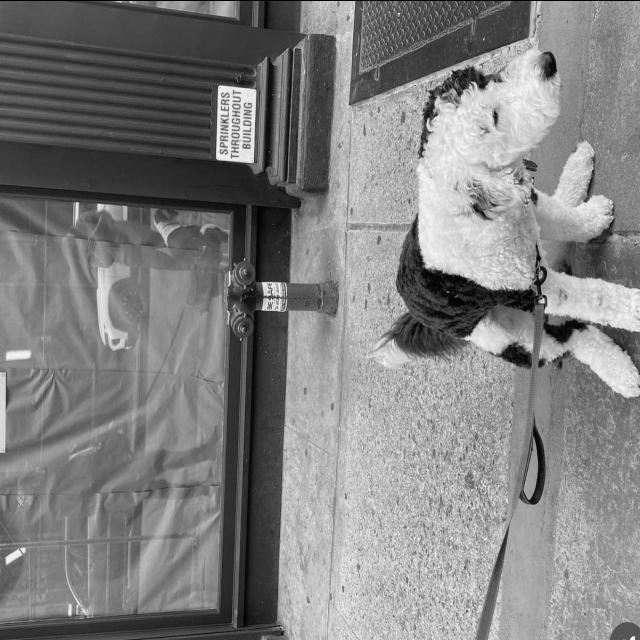squatting: (363, 37, 640, 413)
